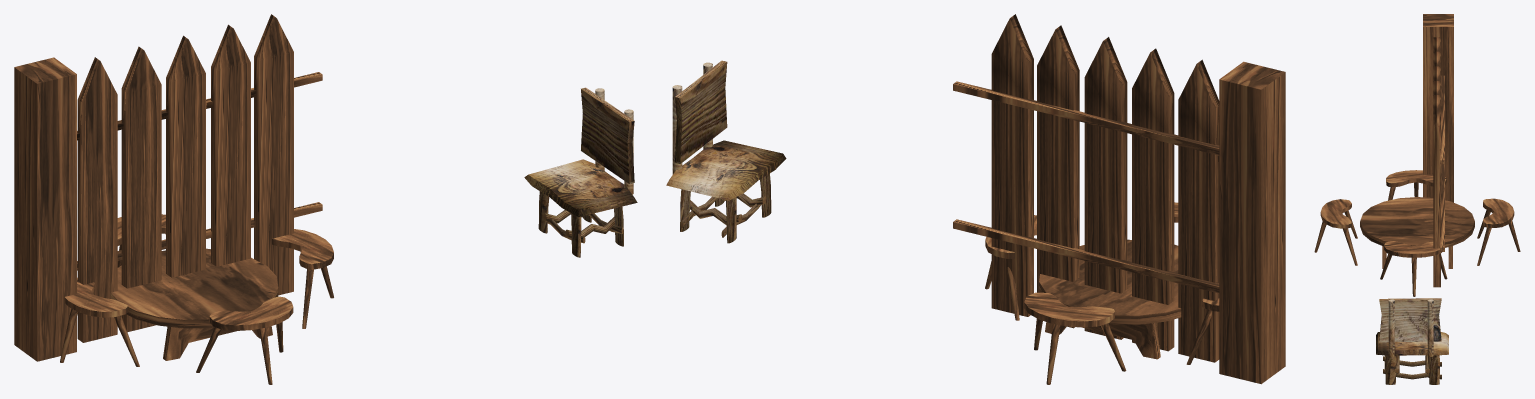
Rendered from Chair - type 3.fbx.
3 views of the same model, side by side, from view 1: azimuth 30°, elevation 25°; view 2: azimuth 150°, elevation 25°; view 3: azimuth 270°, elevation 25° (orthographic). The views are drawn at different scales.
Visible parts, largest first — view 1: pCube18, pCube5, stol_s_oblegalka, Wooden_Table, Wooden_Chair2, Wooden_Chair4, Wooden_Chair3; view 2: pCube18, pCube5, stol_s_oblegalka, Wooden_Table, Wooden_Chair, Wooden_Chair4, Wooden_Chair3; view 3: stol_s_oblegalka, Wooden_Table, pCube5, pCube18, Wooden_Chair, Wooden_Chair2, Wooden_Chair4, Wooden_Chair3.
Part boxes in pixels (left/top/right/bottom): pCube18: left=77, top=14, right=322, bottom=342; pCube5: left=14, top=57, right=76, bottom=361; stol_s_oblegalka: left=524, top=87, right=637, bottom=257; Wooden_Table: left=110, top=248, right=278, bottom=360; Wooden_Chair2: left=196, top=296, right=293, bottom=384; Wooden_Chair4: left=272, top=229, right=333, bottom=328; Wooden_Chair3: left=60, top=277, right=139, bottom=366; pCube18: left=953, top=14, right=1219, bottom=362; pCube5: left=1219, top=61, right=1285, bottom=384; stol_s_oblegalka: left=666, top=60, right=786, bottom=243; Wooden_Table: left=1039, top=239, right=1181, bottom=359; Wooden_Chair: left=1024, top=292, right=1126, bottom=384; Wooden_Chair4: left=985, top=215, right=1036, bottom=320; Wooden_Chair3: left=1186, top=298, right=1219, bottom=364; stol_s_oblegalka: left=1376, top=298, right=1448, bottom=384; Wooden_Table: left=1360, top=197, right=1474, bottom=268; pCube5: left=1423, top=14, right=1453, bottom=202; pCube18: left=1433, top=37, right=1444, bottom=287; Wooden_Chair: left=1477, top=198, right=1520, bottom=265; Wooden_Chair2: left=1314, top=199, right=1357, bottom=265; Wooden_Chair4: left=1380, top=241, right=1447, bottom=296; Wooden_Chair3: left=1386, top=170, right=1446, bottom=200.
Size of the model in its own units: 774 by 361 by 359.
Materials: 2 (2 with a texture image).
